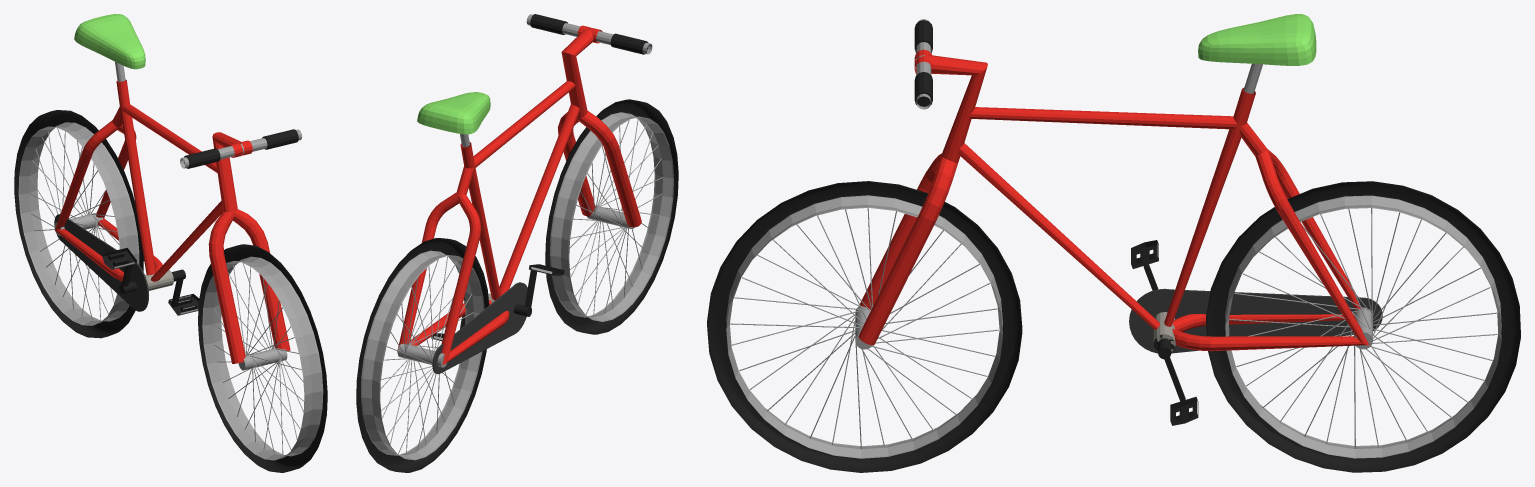
Rendered from bicycle.fbx.
3 views of the same model, side by side, from view 1: azimuth 30°, elevation 25°; view 2: azimuth 150°, elevation 25°; view 3: azimuth 270°, elevation 25° (orthographic). The views are drawn at different scales.
Visible parts, largest first — view 1: rim front, rim back, cycle body, handle.001, tyre front, tyre back, seat, spokes front, chain plate, spokes back, handle, pedal r (+5 smaller); view 2: cycle body, rim front, rim back, handle.001, tyre front, tyre back, chain plate, spokes back, spokes front, seat, handle, pedal r (+3 smaller); view 3: cycle body, tyre front, tyre back, handle.001, rim back, rim front, chain plate, spokes back, spokes front, seat, pedal left, handle.
Part boxes in pixels (x1,y1,x2,y2): rim front: (202,256,323,460); rim back: (18,122,139,325); cycle body: (55,80,222,281); handle.001: (208,132,290,363); tyre front: (198,244,327,472); tyre back: (14,110,143,338); seat: (74,14,145,69); spokes front: (213,263,304,454); chain plate: (54,214,148,311); spokes back: (29,128,119,320); handle: (184,129,298,168); pedal r: (102,247,136,293); cycle body: (397,81,579,364); rim front: (549,112,673,321); rim back: (361,250,484,460); handle.001: (558,25,641,227); tyre front: (545,99,678,334); tyre back: (356,238,489,472); chain plate: (432,282,527,374); spokes back: (380,256,473,454); spokes front: (569,118,662,316); seat: (417,92,490,134); handle: (530,14,648,54); pedal r: (514,264,564,316); cycle body: (958,88,1369,351); tyre front: (707,181,1022,472); tyre back: (1206,181,1520,472); handle.001: (858,49,987,345); rim back: (1225,195,1501,458); rim front: (726,195,1002,458); chain plate: (1129,288,1382,353); spokes back: (1229,208,1497,448); spokes front: (730,208,998,448); seat: (1198,14,1316,65); pedal left: (1153,334,1198,425); handle: (914,20,932,106).
Size of the model in its own units: 99.56 by 268 by 443.
